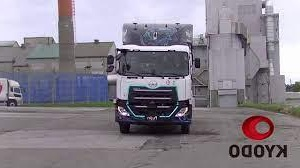truck: (114, 23, 193, 138), (0, 78, 27, 109)
